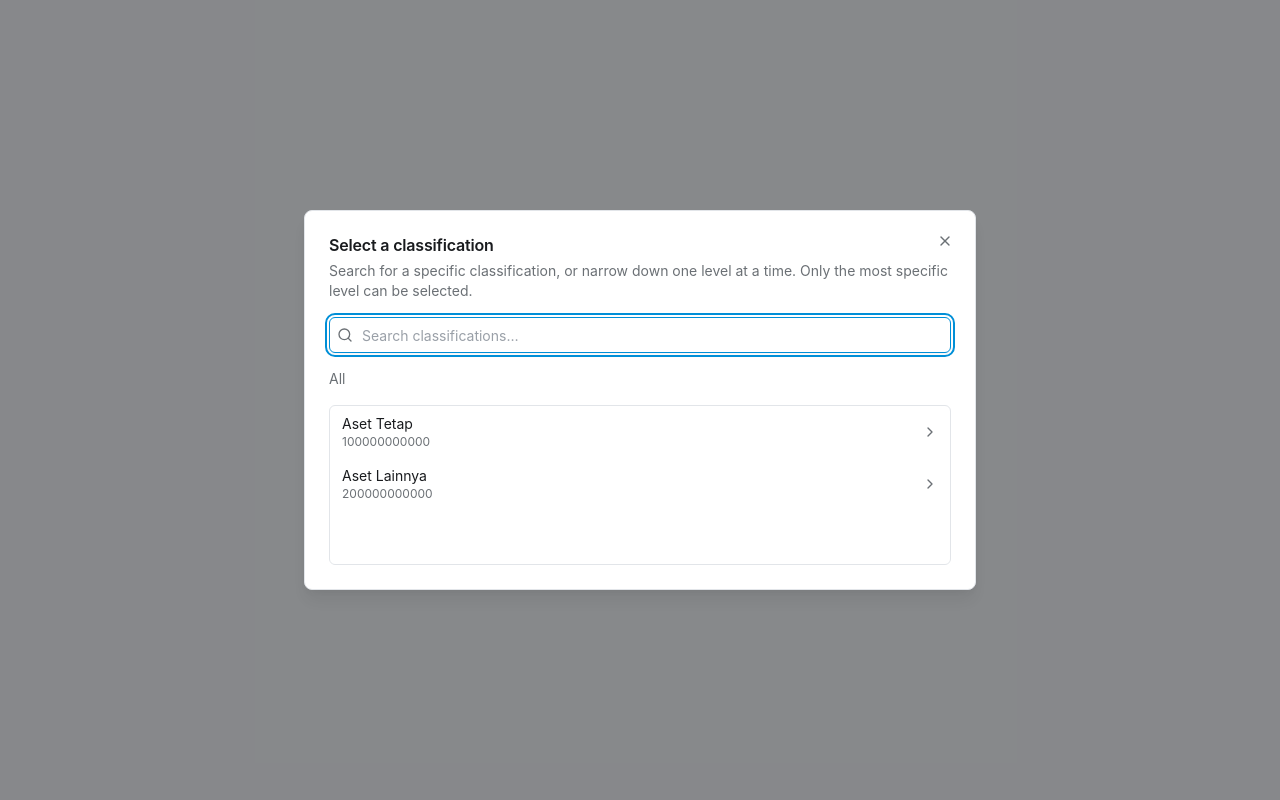
ClassificationPicker — drill-down (§4.5) › narrows one level at a time and builds a breadcrumb
Step 1. Click the text "Aset Tetap" → {"x": 377, "y": 424}, box [342,414,413,434]
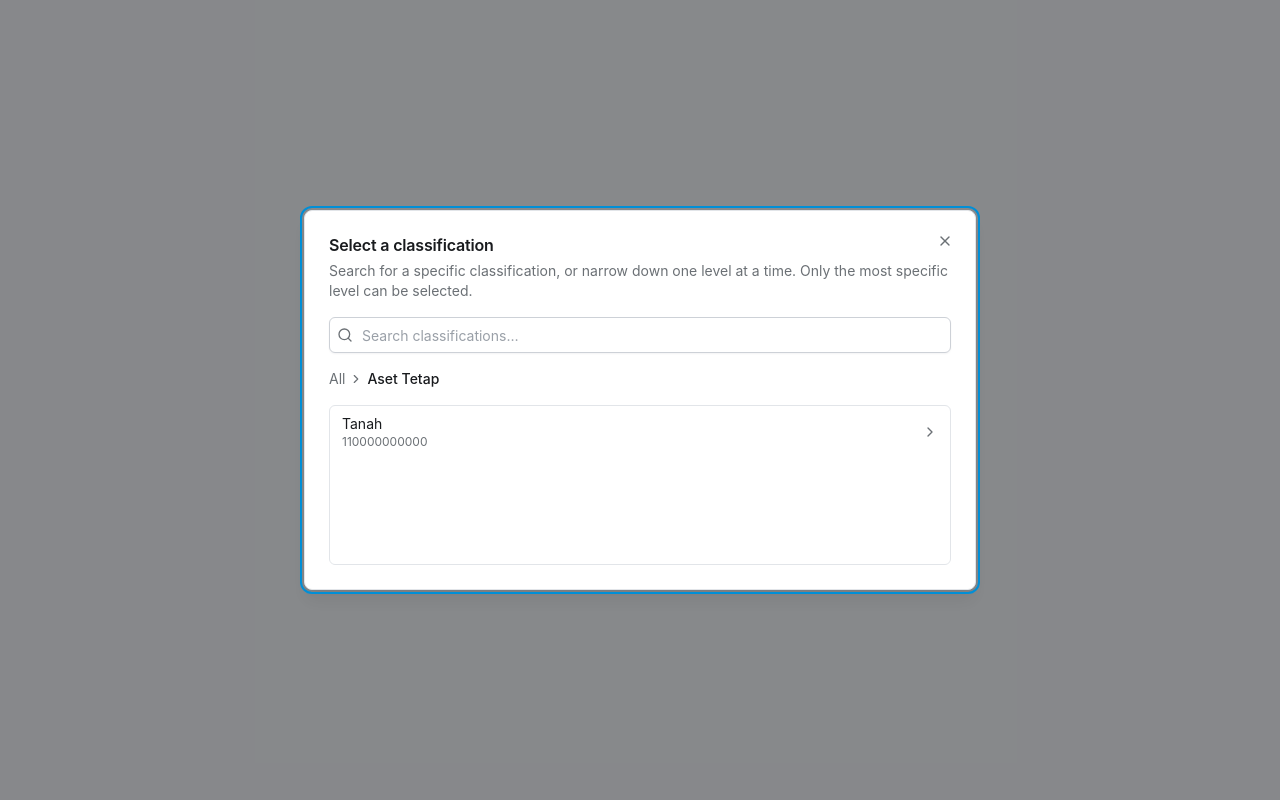
Check: the text "Tanah" is shown, box [342,414,382,434]
Check: the navigation bar named "classification path" shows "Aset Tetap", box [368,369,439,389]
